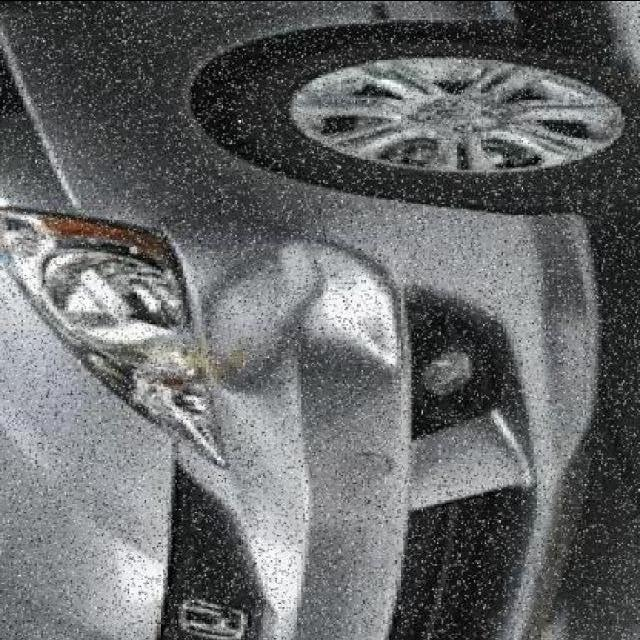front-bumper-dent: (206, 167, 484, 565)
